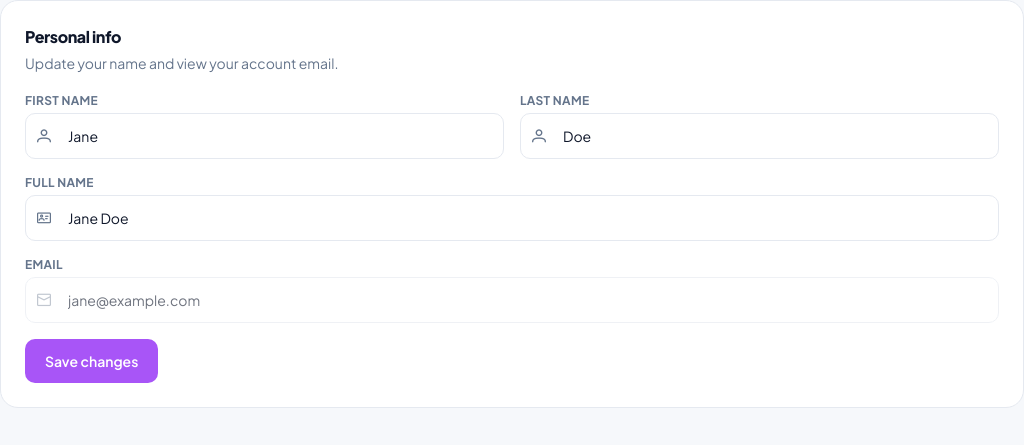
Scenario: PersonalInfoCard › shows a validation error when the first name is cleared and saved
Clear the field with placeholder "First name" at [264, 136], box [25, 113, 504, 159]
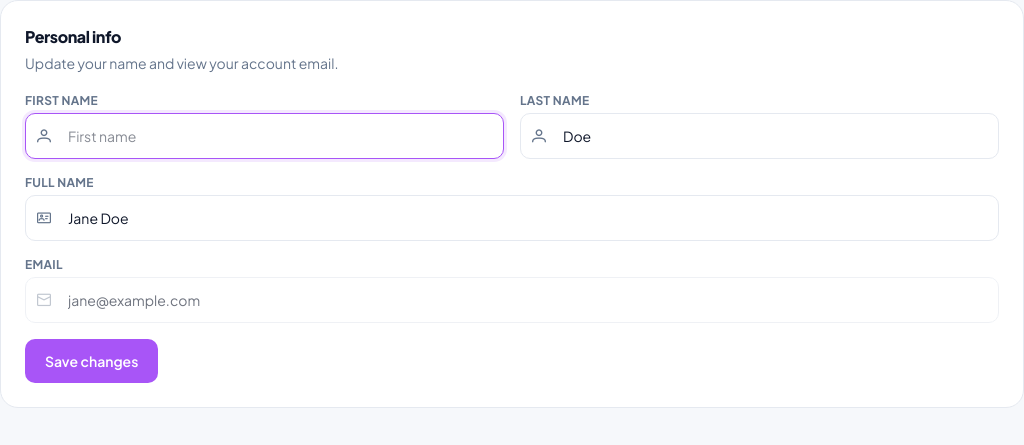
Click the button "Save changes" at [92, 361], box [25, 339, 158, 383]
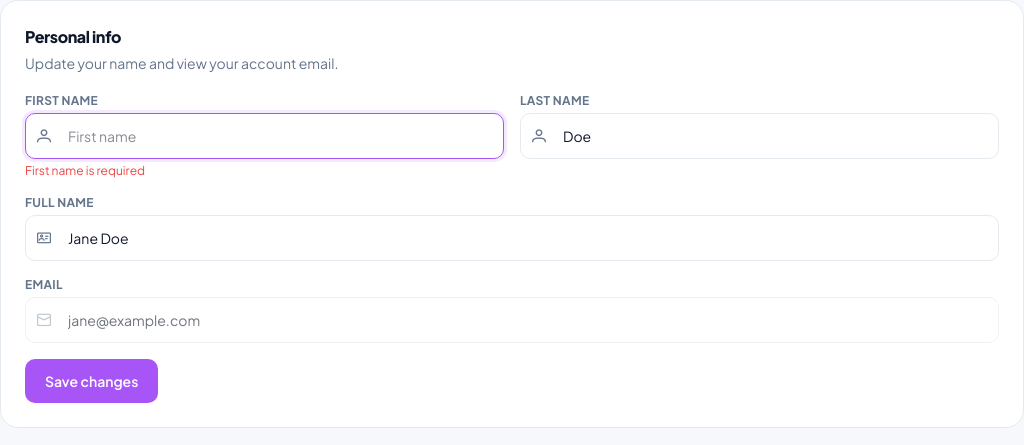
Expected: the text "First name is required" is shown, [25, 163, 145, 178]
